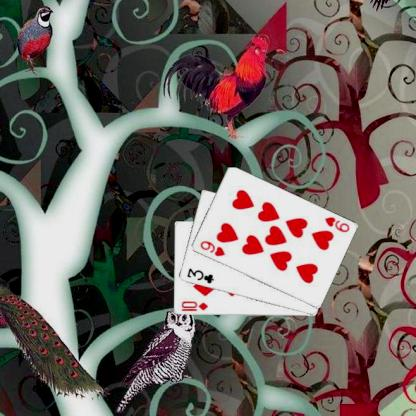10D: (178, 299, 209, 312)
3C: (184, 266, 215, 285)
9H: (197, 238, 226, 258), (322, 214, 351, 234)
